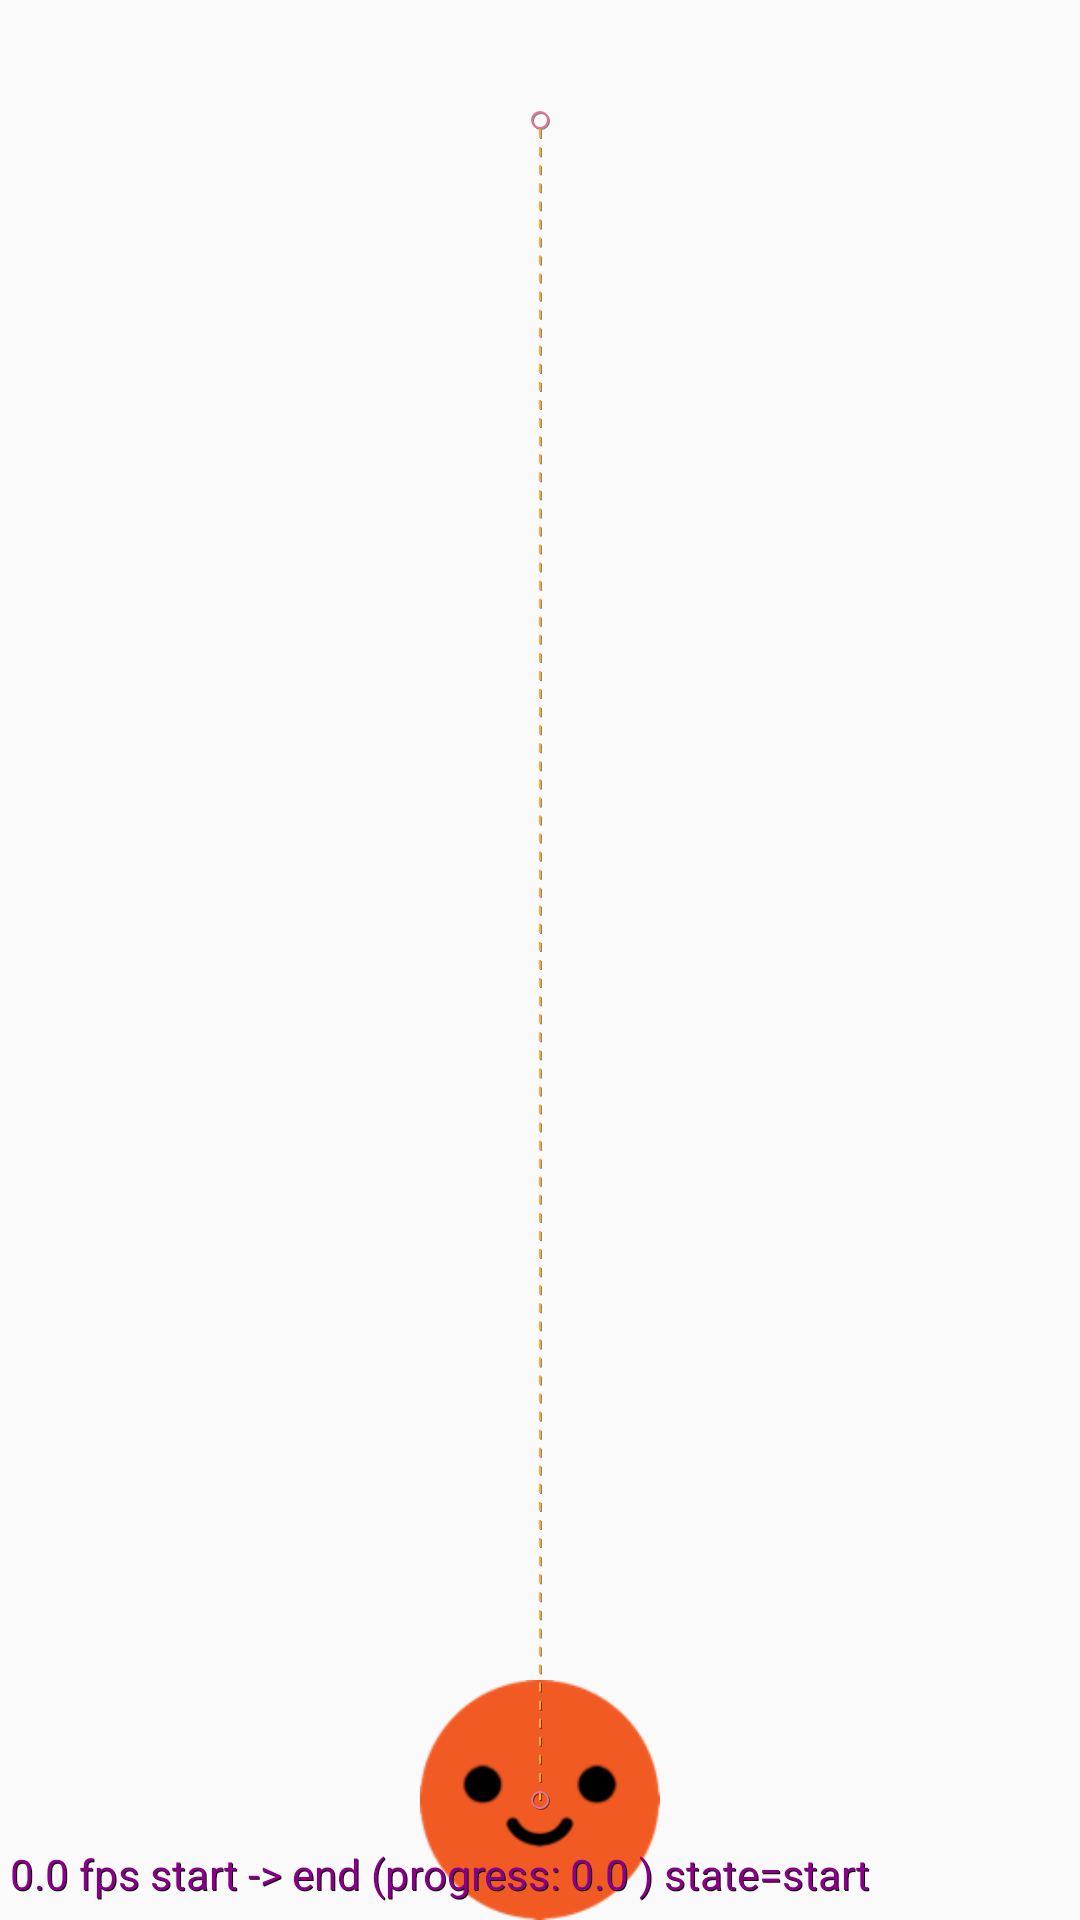

Where icons sit on this 1080*1920 app screen, as [x1=x1, y1=y1, x2=x2, y2=y2]:
turuncu: [x1=420, y1=1680, x2=660, y2=1920]
